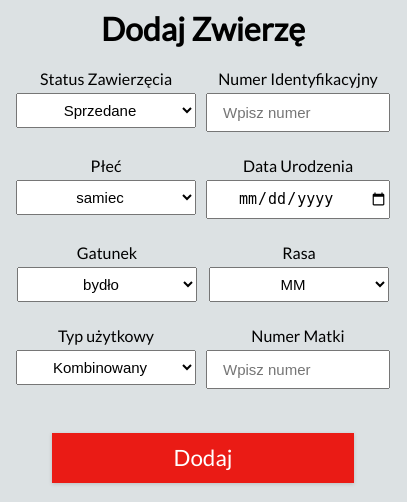
Test: test AnimalsAdd component › change breed options after change Specie › choose pig
Select "świnia" in the dropdown with test id "specieAnimal" at (107, 284), box [17,267,197,302]
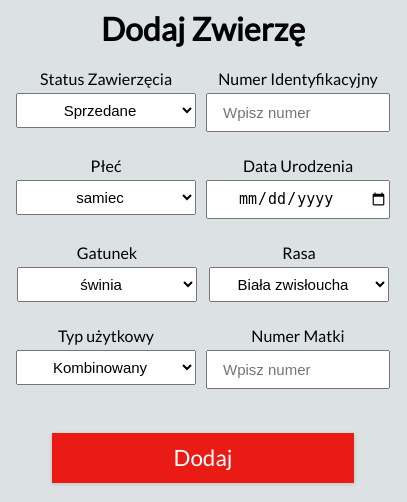
Now the dropdown with test id "breed-pig" is shown, box [209,267,389,302]
